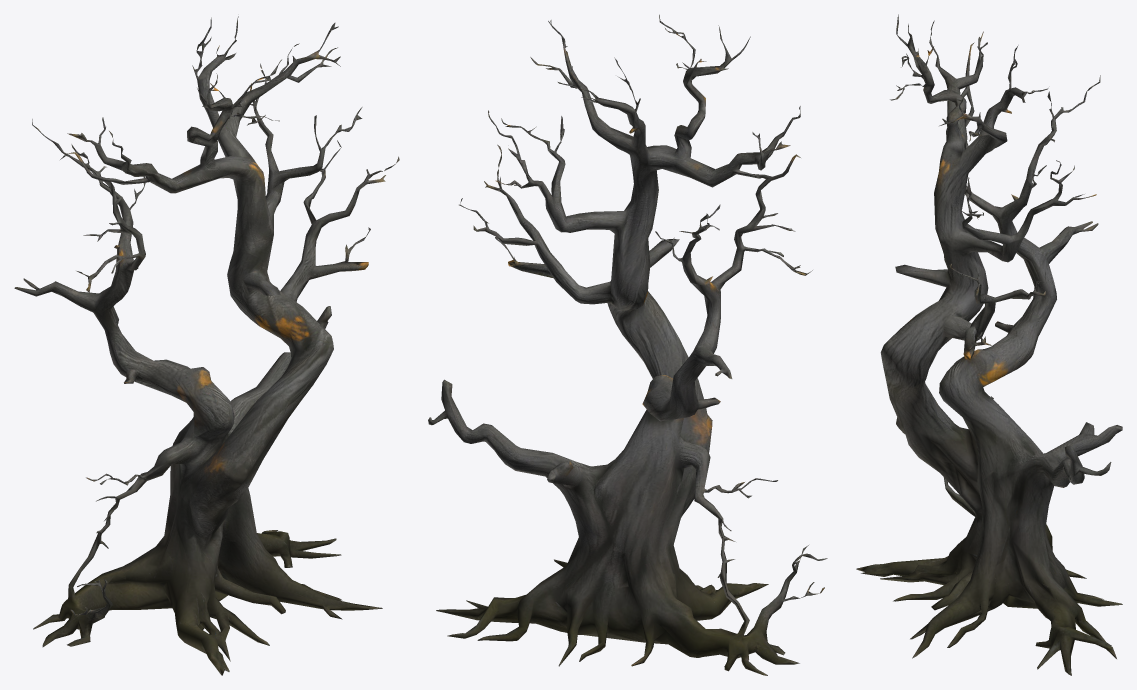
The model's file is tree_bare.glb.
The picture shows the model from 3 angles, left to right: view 1: azimuth 30°, elevation 25°; view 2: azimuth 150°, elevation 25°; view 3: azimuth 270°, elevation 25°; orthographic projection. The views are drawn at different scales.
Visible parts, largest first — view 1: tree_bare; view 2: tree_bare; view 3: tree_bare.
Part boxes in pixels (x1=…): tree_bare: x1=14, y1=16, x2=399, y2=675; tree_bare: x1=428, y1=14, x2=827, y2=675; tree_bare: x1=856, y1=14, x2=1122, y2=675.
Bounding box in the file's own units: 114 × 191 × 82.11.
1 material, 1 textured.
